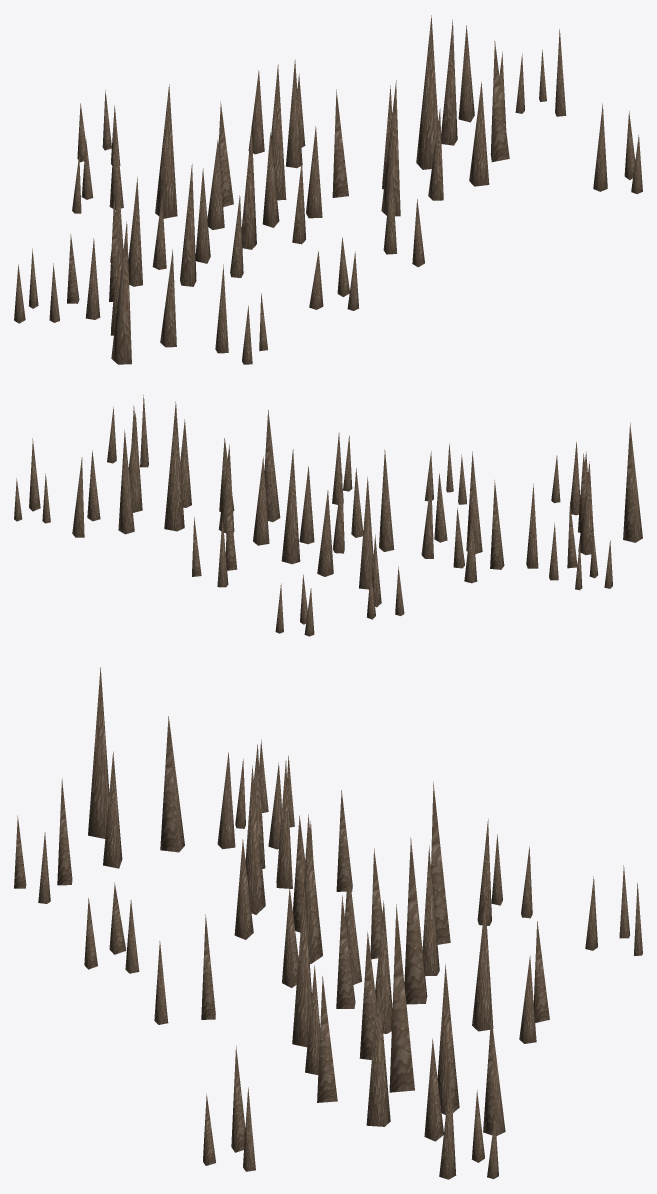
The model's file is area_06_7.fbx.
The picture shows the model from 3 angles, top to bottom: view 1: azimuth 30°, elevation 25°; view 2: azimuth 150°, elevation 25°; view 3: azimuth 270°, elevation 25°; orthographic projection. The views are drawn at different scales.
Visible parts, largest first — view 1: area_06_7; view 2: area_06_7; view 3: area_06_7.
Boxes of the visible parts, bbox=[...] form: area_06_7: bbox=[14, 15, 642, 364]; area_06_7: bbox=[14, 395, 642, 636]; area_06_7: bbox=[14, 667, 642, 1179].
Bounding box in the file's own units: 72.98 × 17.05 × 52.34.
